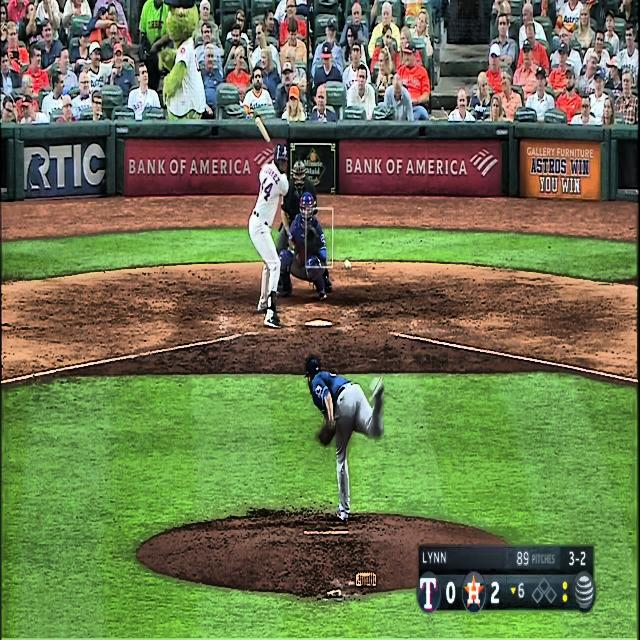baseball: (344, 259, 352, 271)
